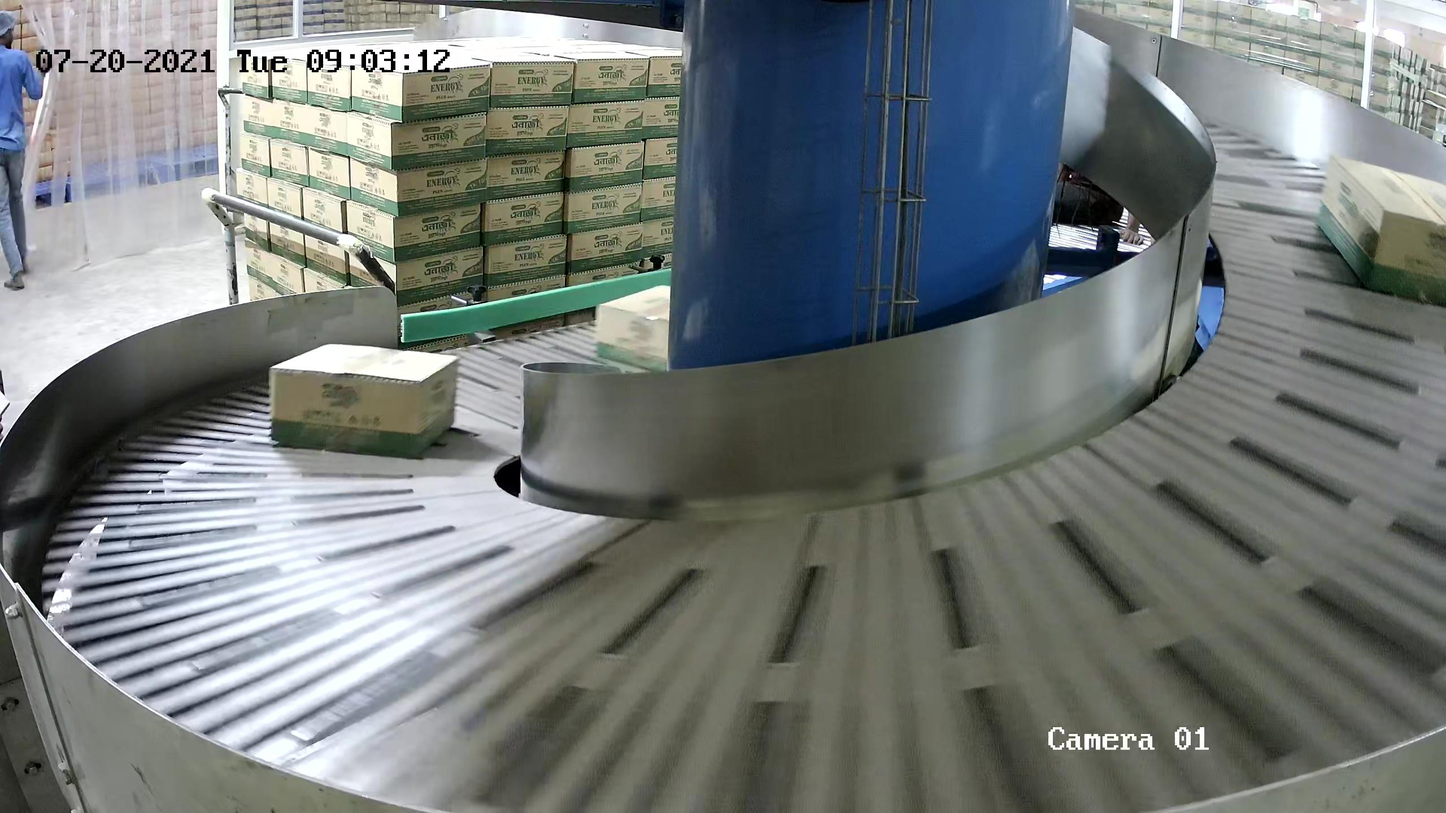Box: (267, 342, 460, 459), (1314, 150, 1446, 306), (594, 284, 670, 371)
